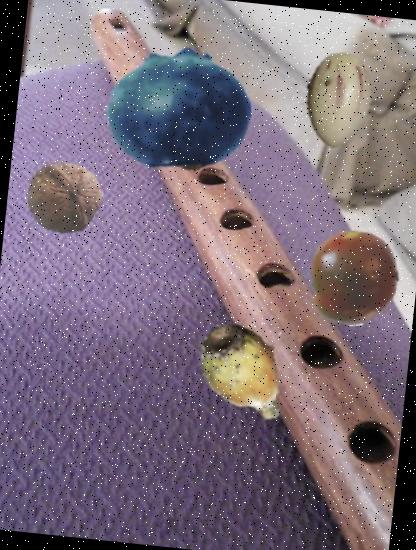Apple: (324, 228, 390, 294)
Cactus: (184, 310, 310, 435)
Huckleberry: (100, 29, 258, 187)
Pepino: (283, 46, 392, 154)
Pineapple: (141, 72, 244, 175)
Tomato: (302, 226, 408, 331)
Walnut: (22, 156, 108, 240)
